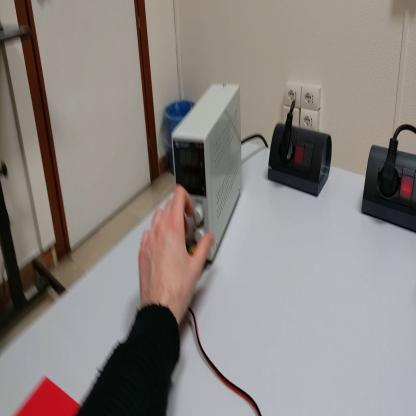hand: (138, 185, 215, 323)
power supply: (173, 89, 245, 266)
register: (15, 376, 82, 416)
socket: (267, 124, 335, 202), (362, 141, 416, 233)
